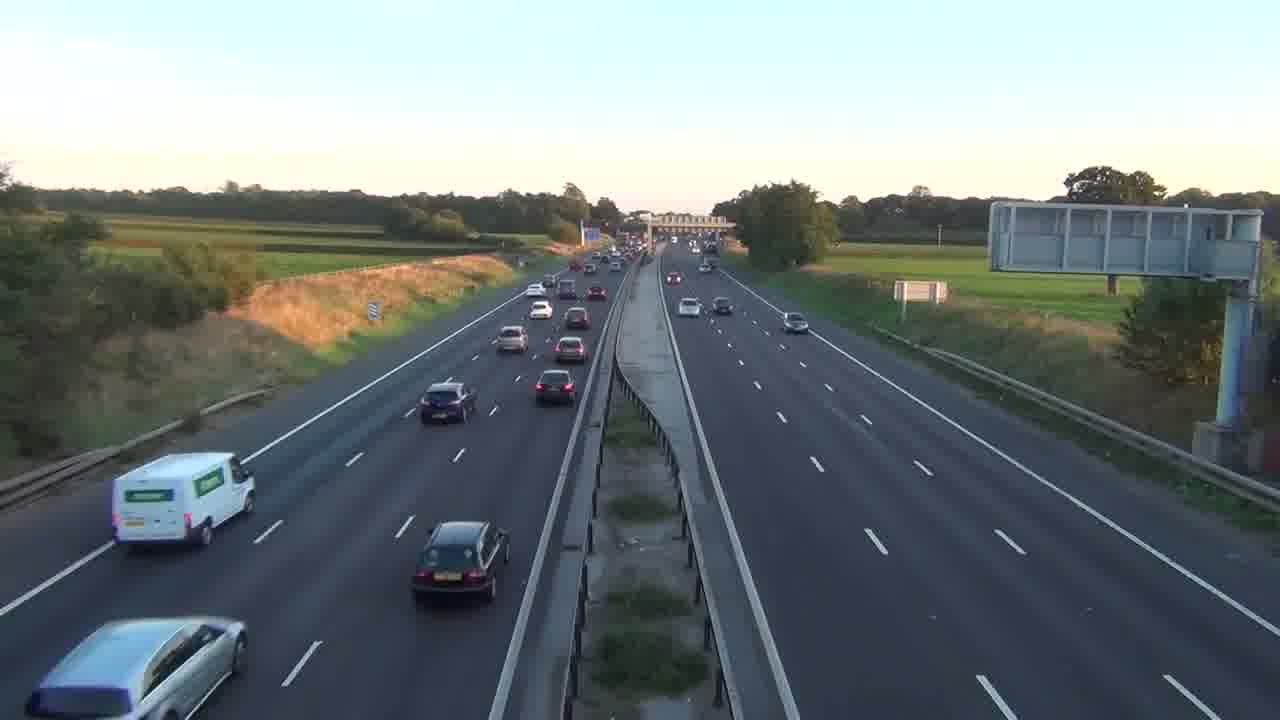bus: (111, 450, 256, 546)
car: (23, 614, 249, 719), (410, 519, 511, 602), (418, 379, 478, 425), (533, 367, 577, 405), (553, 335, 587, 365), (493, 325, 529, 353), (562, 305, 592, 330), (782, 311, 809, 335), (678, 295, 703, 316), (527, 300, 553, 319), (712, 297, 734, 315)
